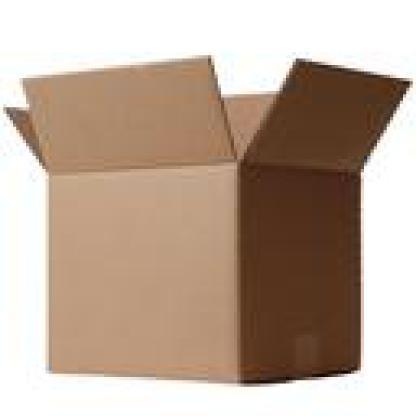box: (0, 49, 410, 381)
